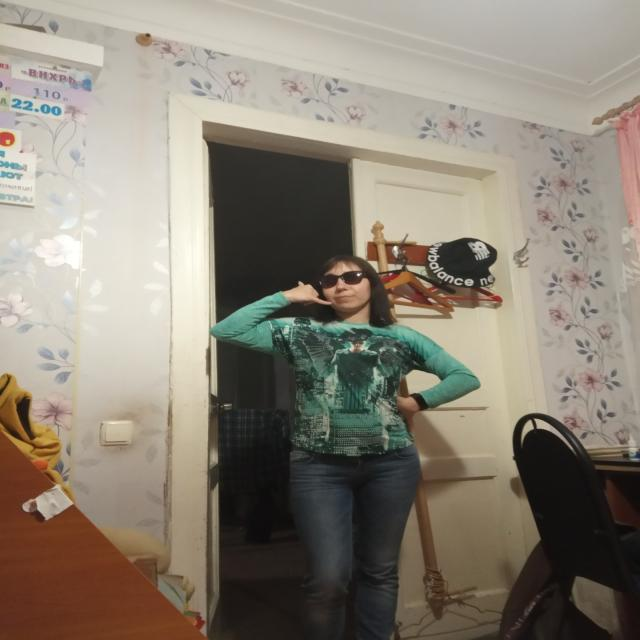call: (282, 276, 336, 309)
